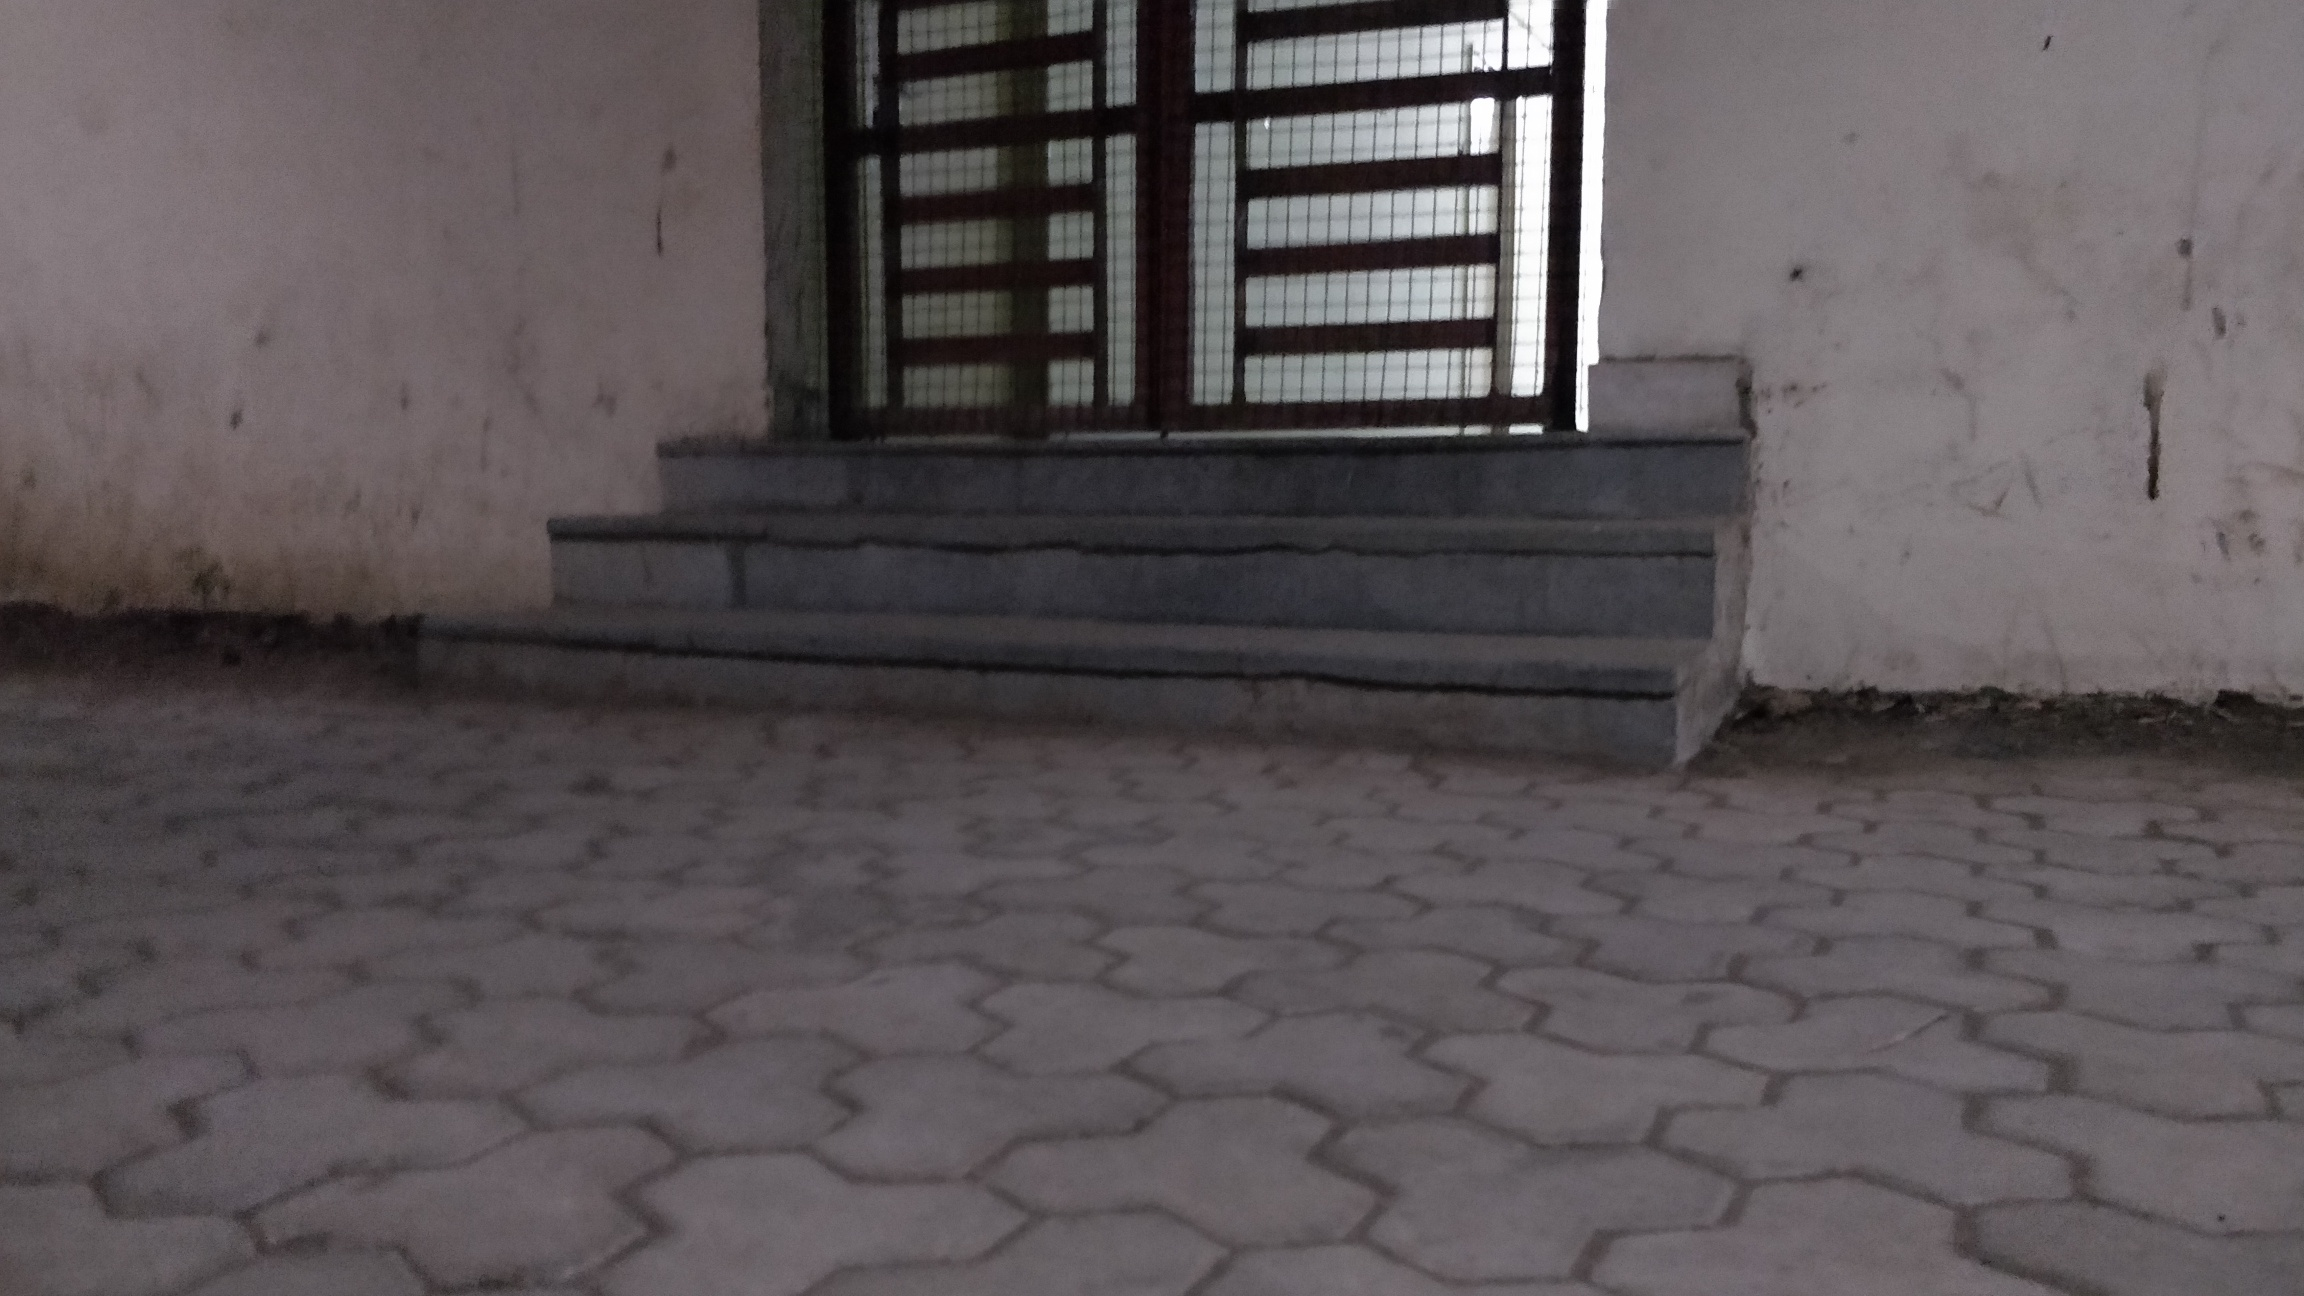stairs_up: (418, 432, 1756, 752)
